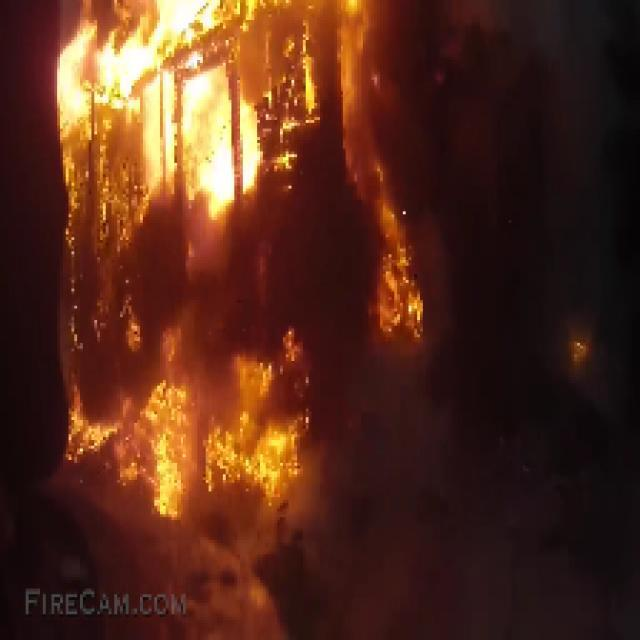Fire: (57, 17, 405, 180), (66, 308, 306, 490), (356, 206, 448, 344)
Smoke: (338, 377, 567, 618), (482, 17, 610, 266)
